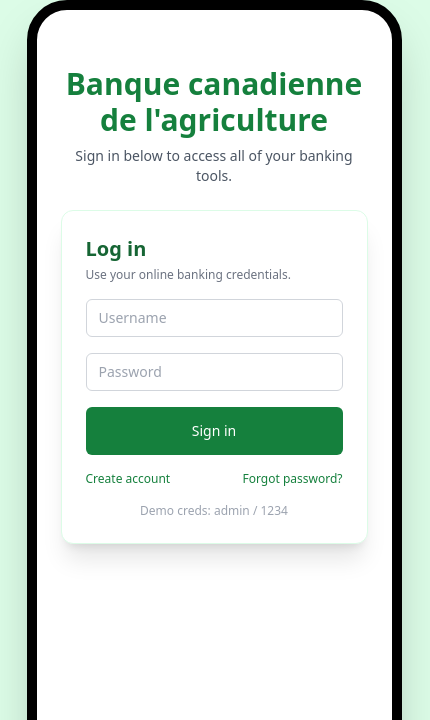
Test: App › allows demo user to reach account overview
Type "admin" into the field with placeholder "Username" at (214, 318), box top-left (86, 299), bottom-right (342, 337)
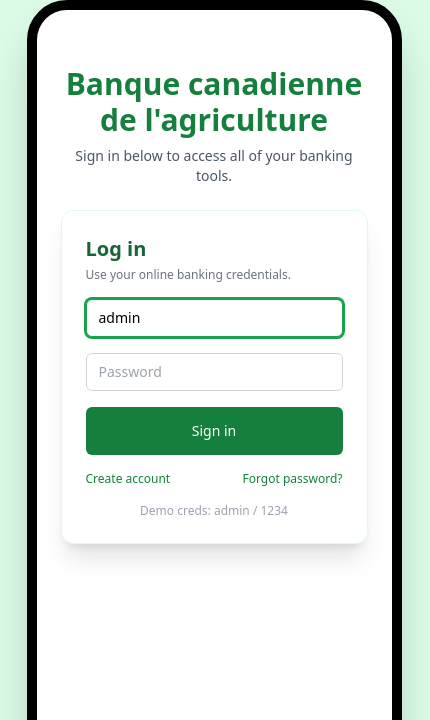
Type "1234" into the password field with placeholder "Password" at (214, 372), box top-left (86, 353), bottom-right (342, 391)
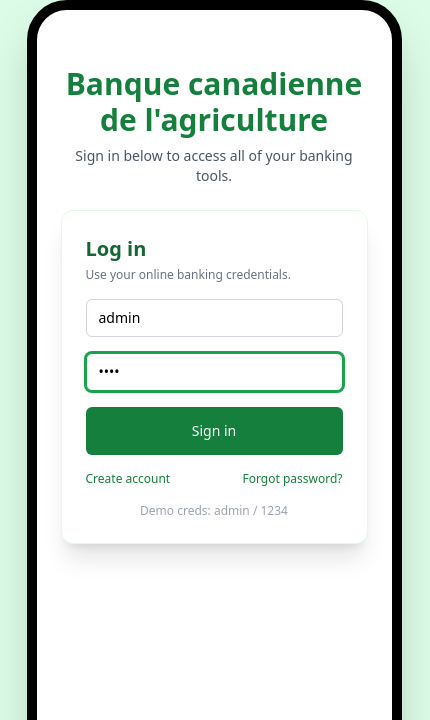
Click the button "Sign in" at (214, 431), box top-left (86, 407), bottom-right (342, 455)
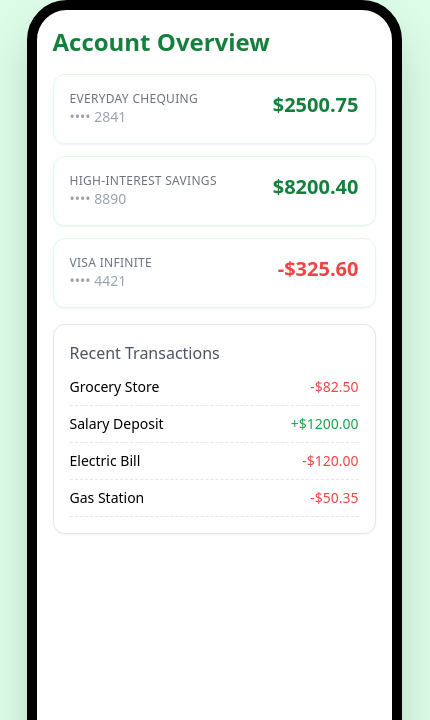
Result: the heading "Account Overview" is shown at top-left (52, 25), bottom-right (270, 58)
